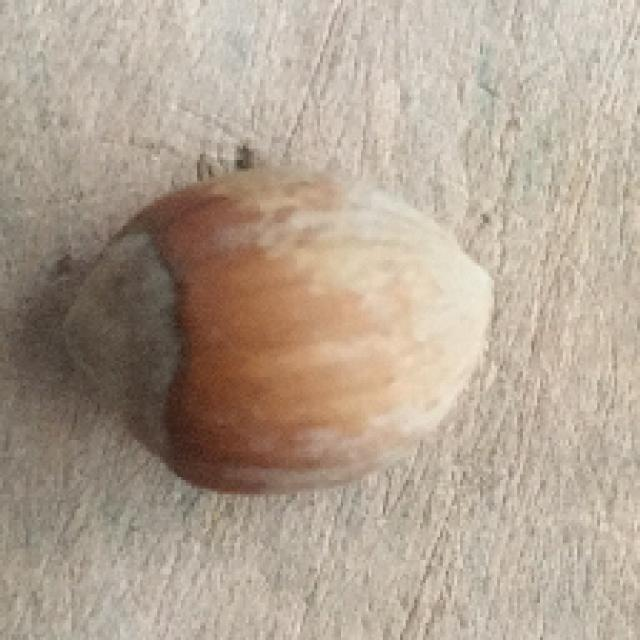QualityHazelnut: (55, 168, 495, 500)
